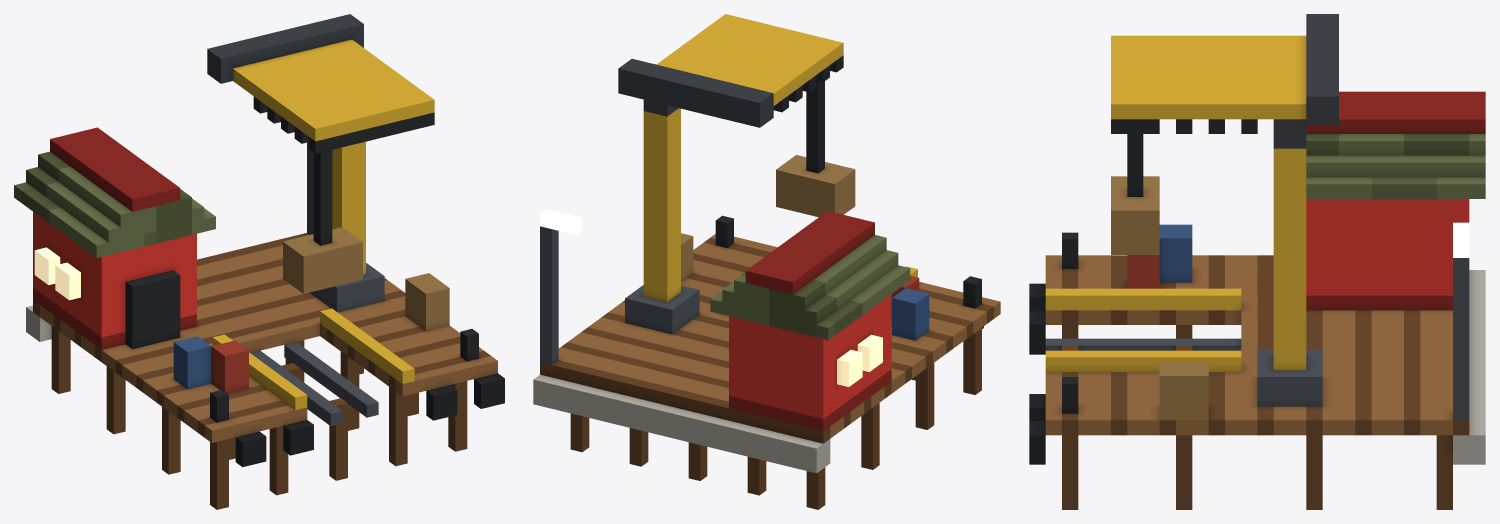
File: cm_dock_0.glb
3 renders of one model, left to right at view 1: azimuth 30°, elevation 25°; view 2: azimuth 150°, elevation 25°; view 3: azimuth 270°, elevation 25°, orthographic. The views are drawn at different scales.
Visible parts, largest first — view 1: cm_dock_0_body; view 2: cm_dock_0_body; view 3: cm_dock_0_body.
Part boxes in pixels (bbox=[...]): cm_dock_0_body: bbox=[14, 14, 504, 509]; cm_dock_0_body: bbox=[533, 14, 1000, 509]; cm_dock_0_body: bbox=[1029, 14, 1485, 509].
Size of the model in its own units: 1.56 by 1.75 by 1.75.
1 material, 1 textured.
